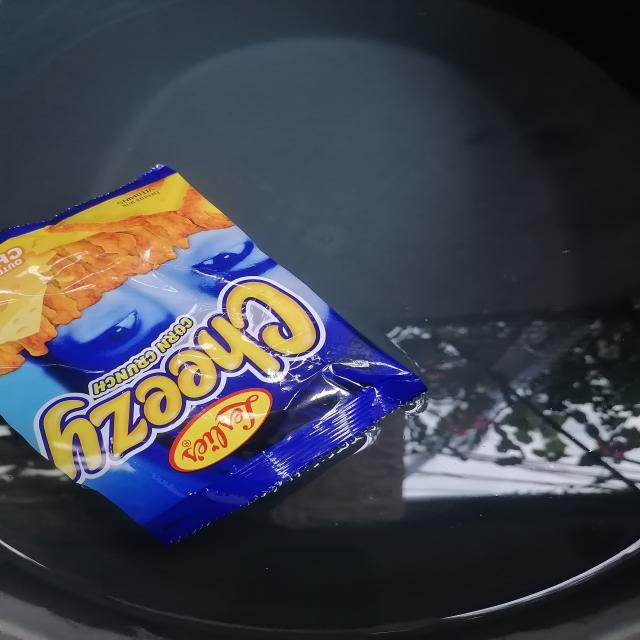Plastic Wrapper: (0, 166, 426, 542)
